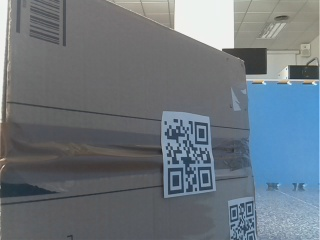caja: (4, 30, 246, 234)
